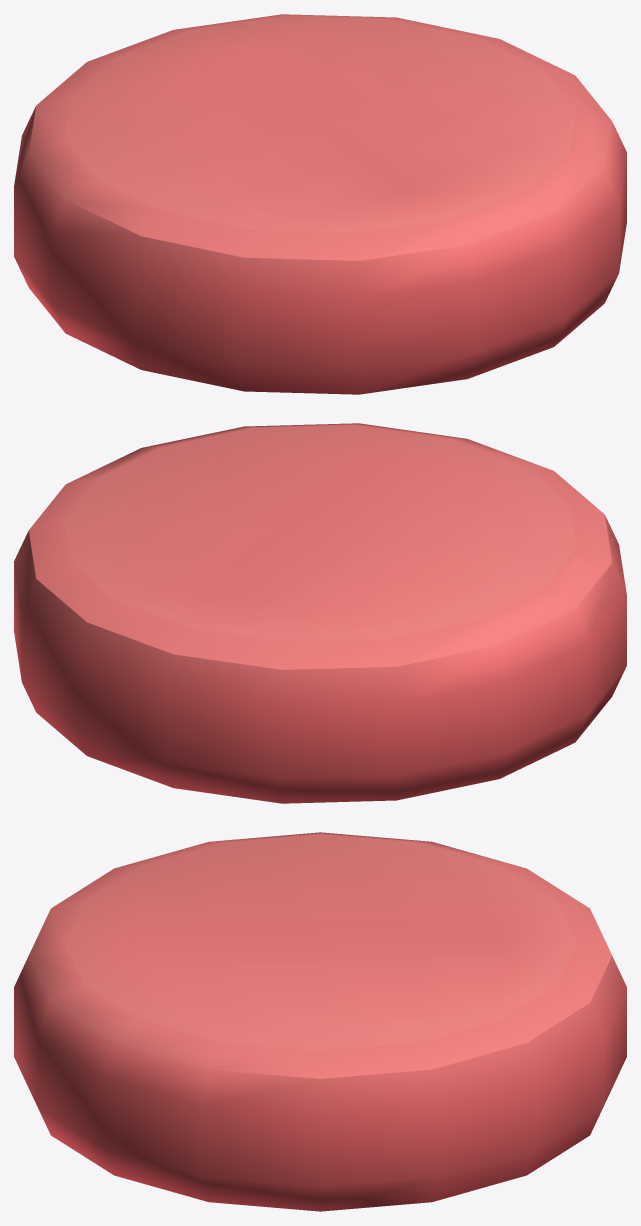
Rendered from food_ingredient_burger_uncooked.obj.
The picture shows the model from 3 angles, top to bottom: view 1: azimuth 30°, elevation 25°; view 2: azimuth 150°, elevation 25°; view 3: azimuth 270°, elevation 25°; orthographic projection.
Visible parts, largest first — view 1: food_ingredient_burger_uncooked_Cylinder.063; view 2: food_ingredient_burger_uncooked_Cylinder.063; view 3: food_ingredient_burger_uncooked_Cylinder.063.
Boxes of the visible parts, left/top/right/bottom form: food_ingredient_burger_uncooked_Cylinder.063: left=14, top=14, right=626, bottom=394; food_ingredient_burger_uncooked_Cylinder.063: left=14, top=423, right=626, bottom=803; food_ingredient_burger_uncooked_Cylinder.063: left=14, top=832, right=626, bottom=1211.
Size of the model in its own units: 0.7 by 0.2 by 0.7.
Materials: 1 (1 with a texture image).
